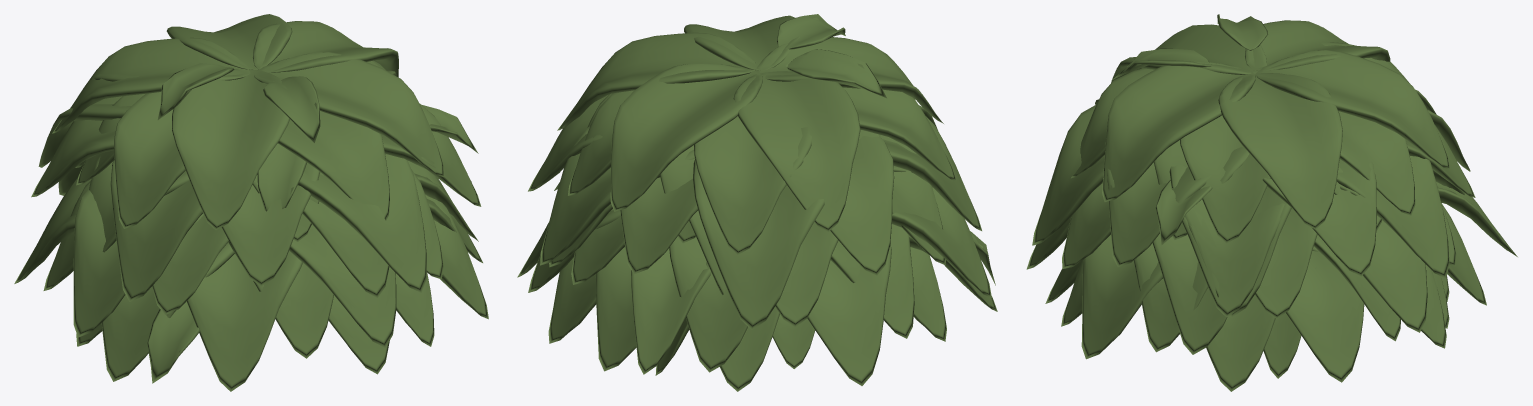
The model's file is plainbush.fbx.
The picture shows the model from 3 angles, left to right: view 1: azimuth 30°, elevation 25°; view 2: azimuth 150°, elevation 25°; view 3: azimuth 270°, elevation 25°; orthographic projection. The views are drawn at different scales.
Parts seen in each view (by area): view 1: polySurface140; view 2: polySurface140; view 3: polySurface140.
Boxes of the visible parts, left/top/right/bottom form: polySurface140: left=14, top=14, right=488, bottom=391; polySurface140: left=517, top=14, right=997, bottom=391; polySurface140: left=1026, top=14, right=1517, bottom=391.
Size of the model in its own units: 2.36 by 1.41 by 2.53.
